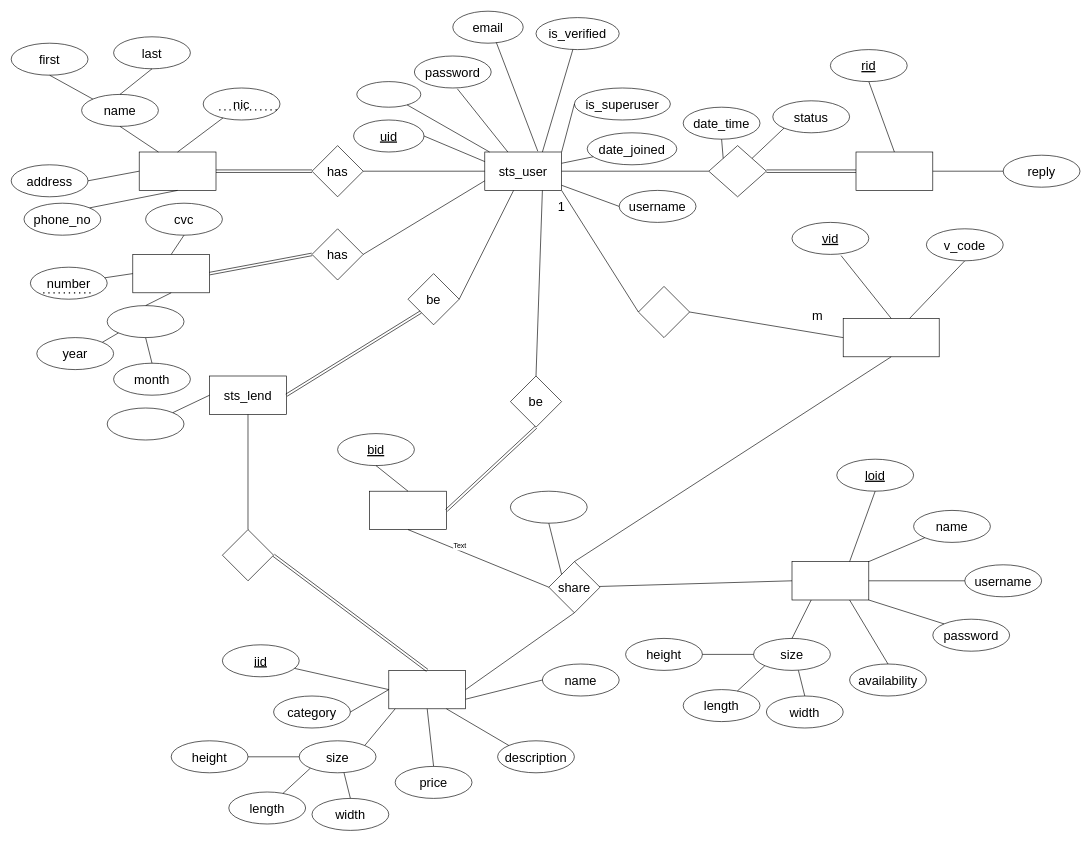
Some shapes in this 1091 by 842 pixel diagram are drawn without their labels. The shapes that lost their labels are listed below. From the top down, each one's box as (x1, y1, x2, y2) in pixels, then its label:
(356, 81, 421, 107): roll
(139, 151, 216, 190): sts_personal
(708, 145, 766, 197): pending
(855, 151, 933, 190): sts_reply
(132, 254, 210, 293): sts_card
(107, 305, 184, 338): valid
(638, 286, 690, 338): verify
(843, 318, 939, 357): sts_verify
(107, 407, 184, 440): lid
(369, 491, 446, 530): sts_borrow
(510, 491, 587, 523): end_date
(222, 529, 274, 581): insert
(791, 561, 869, 600): sts_locker
(388, 670, 466, 709): sts_item
